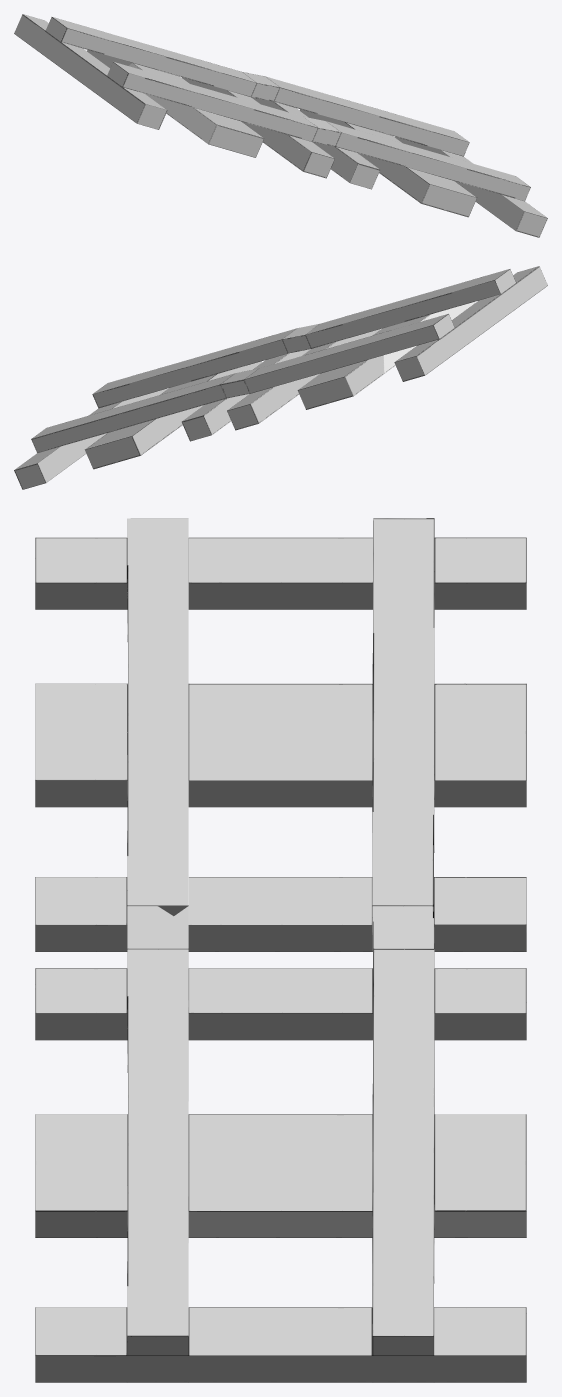
Rendered from rail_splant.obj.
3 renders of one model, top to bottom at view 1: azimuth 30°, elevation 25°; view 2: azimuth 150°, elevation 25°; view 3: azimuth 270°, elevation 25°, orthographic. The views are drawn at different scales.
Visible parts, largest first — view 1: rail_slant_Cube.007; view 2: rail_slant_Cube.007; view 3: rail_slant_Cube.007.
Boxes of the visible parts, box(x1,y1,x2,y2) form: rail_slant_Cube.007: box(14, 14, 547, 237); rail_slant_Cube.007: box(14, 266, 547, 489); rail_slant_Cube.007: box(35, 518, 526, 1382).
Bounding box in the file's own units: 3.92 × 2.18 × 2.
1 material, 1 textured.
